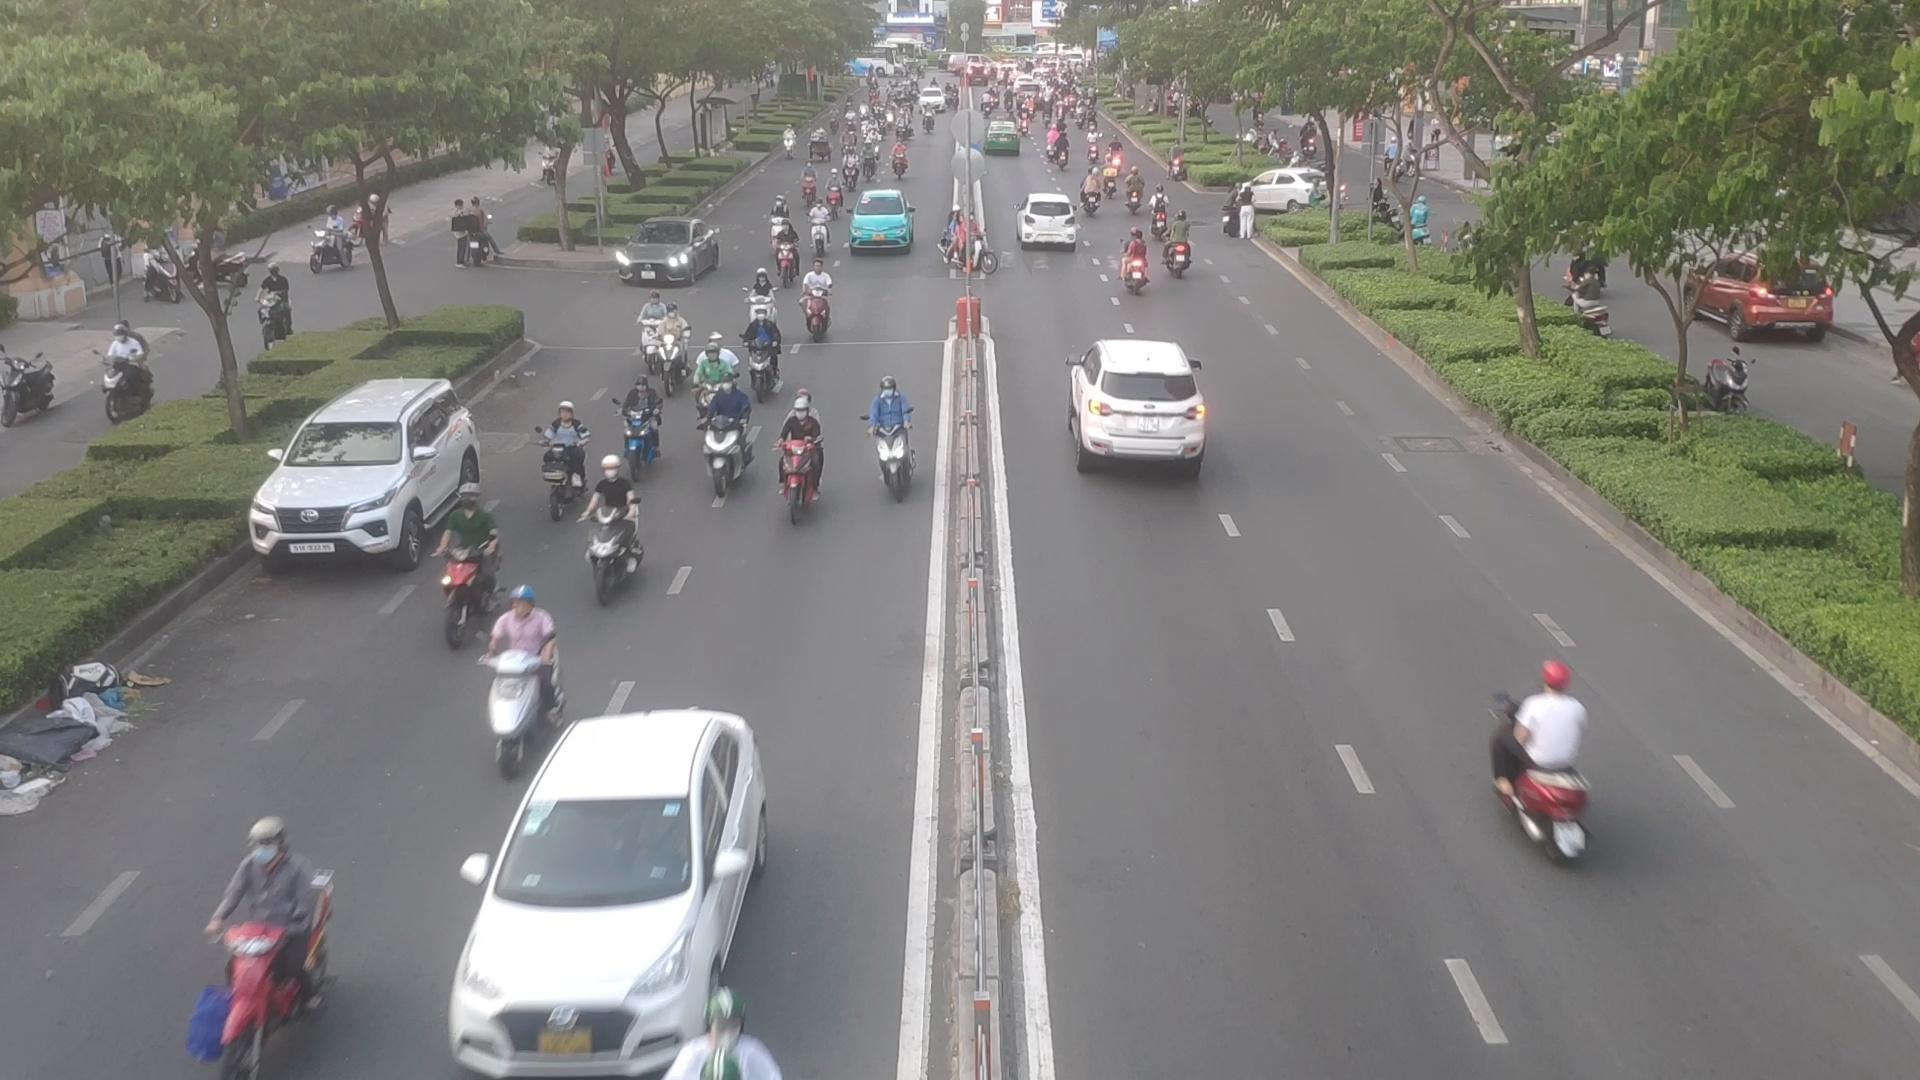car: (447, 709, 775, 1075), (251, 380, 489, 575), (1077, 343, 1211, 459), (615, 219, 721, 290), (1222, 169, 1328, 218), (845, 191, 913, 258), (1015, 191, 1083, 249)
motorbike: (1470, 655, 1617, 887), (196, 814, 323, 1076), (479, 582, 571, 762), (426, 473, 491, 620), (587, 462, 651, 601), (785, 390, 847, 518), (861, 371, 915, 500), (700, 386, 754, 495), (618, 382, 665, 483), (542, 400, 580, 516), (812, 258, 855, 338), (691, 339, 732, 419), (659, 309, 698, 393), (738, 313, 779, 390), (629, 290, 670, 363), (1162, 208, 1197, 284), (963, 212, 994, 277), (746, 272, 775, 342), (1149, 183, 1179, 241), (1127, 229, 1149, 302), (778, 229, 799, 301), (767, 198, 791, 251), (808, 204, 825, 265)
